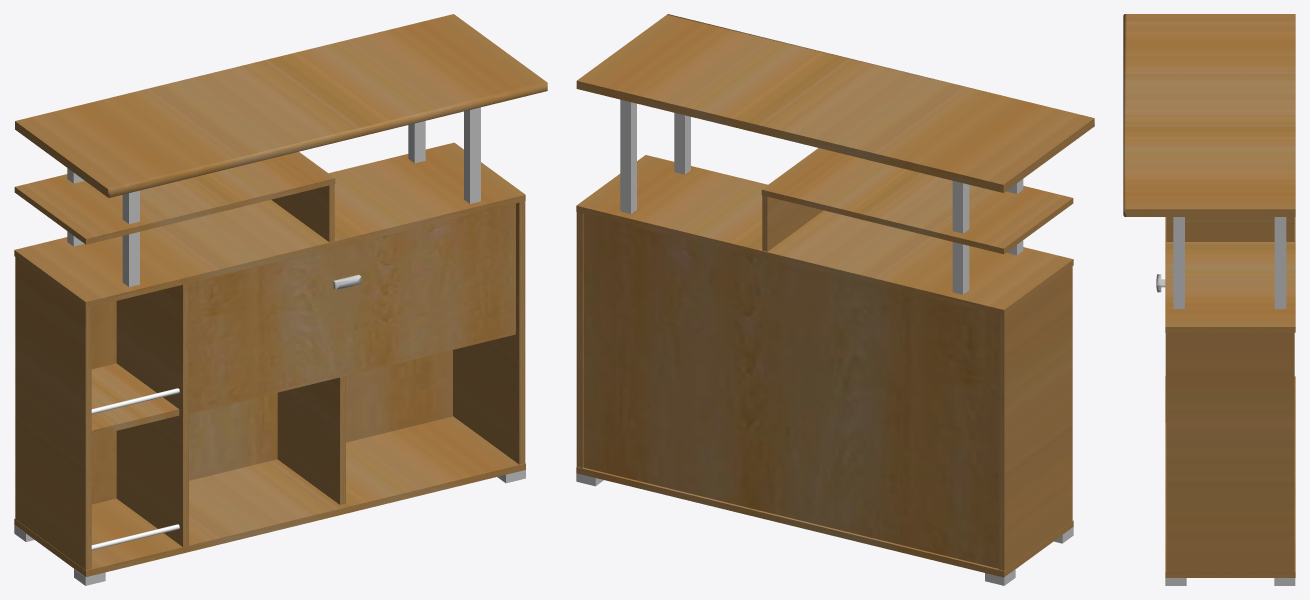
The model's file is barCusisine.obj.
The picture shows the model from 3 angles, left to right: view 1: azimuth 30°, elevation 25°; view 2: azimuth 150°, elevation 25°; view 3: azimuth 270°, elevation 25°; orthographic projection. The views are drawn at different scales.
Parts seen in each view (by area): view 1: Cube_9_13, Cube_13_17, Cube_2_1_6, Cube_2_5, Cube_3_7, Cube_10_14, Cube_3_1_8, Cube_11_15, Cube_3_2_9, Cube_4_10, Cube_14_18, Cube_5_11 (+5 smaller); view 2: Cube_10_14, Cube_13_17, Cube_2_1_6, Cube_3_7, Cube_11_15, Cube_2_5, Cube_3_2_9, Cube_12_16, Cube_15_3_22, Cube_15_2_21, Cube_15_4_23, Cube_15_19 (+1 smaller); view 3: Cube_13_17, Cube_3_2_9, Cube_2_1_6, Cube_12_16, Cube_2_5, Cube_15_3_22, Cube_15_2_21, Cube_14_18.
Boxes of the visible parts, x1,y1,x2,y2 form: Cube_9_13: [189, 203, 515, 411]; Cube_13_17: [15, 14, 545, 196]; Cube_2_1_6: [14, 142, 525, 308]; Cube_2_5: [14, 416, 525, 576]; Cube_3_7: [15, 257, 91, 570]; Cube_10_14: [91, 301, 452, 504]; Cube_3_1_8: [116, 283, 188, 546]; Cube_11_15: [14, 151, 335, 244]; Cube_3_2_9: [453, 201, 525, 464]; Cube_4_10: [277, 376, 345, 504]; Cube_14_18: [107, 81, 547, 197]; Cube_5_11: [91, 363, 179, 436]; Cube_10_14: [583, 213, 998, 568]; Cube_13_17: [576, 15, 1093, 192]; Cube_2_1_6: [576, 155, 1073, 315]; Cube_3_7: [998, 266, 1072, 570]; Cube_11_15: [761, 148, 1073, 254]; Cube_2_5: [576, 467, 1073, 577]; Cube_3_2_9: [576, 212, 583, 467]; Cube_12_16: [762, 195, 823, 251]; Cube_15_3_22: [620, 99, 636, 213]; Cube_15_2_21: [674, 113, 690, 174]; Cube_15_4_23: [952, 242, 969, 294]; Cube_15_19: [952, 181, 969, 233]; Cube_13_17: [1127, 14, 1295, 216]; Cube_3_2_9: [1166, 332, 1294, 572]; Cube_2_1_6: [1165, 217, 1295, 332]; Cube_12_16: [1166, 217, 1294, 241]; Cube_2_5: [1165, 376, 1295, 577]; Cube_15_3_22: [1274, 217, 1286, 308]; Cube_15_2_21: [1173, 217, 1184, 308]; Cube_14_18: [1123, 14, 1126, 216].
Size of the model in its own units: 121 by 108 by 45.
